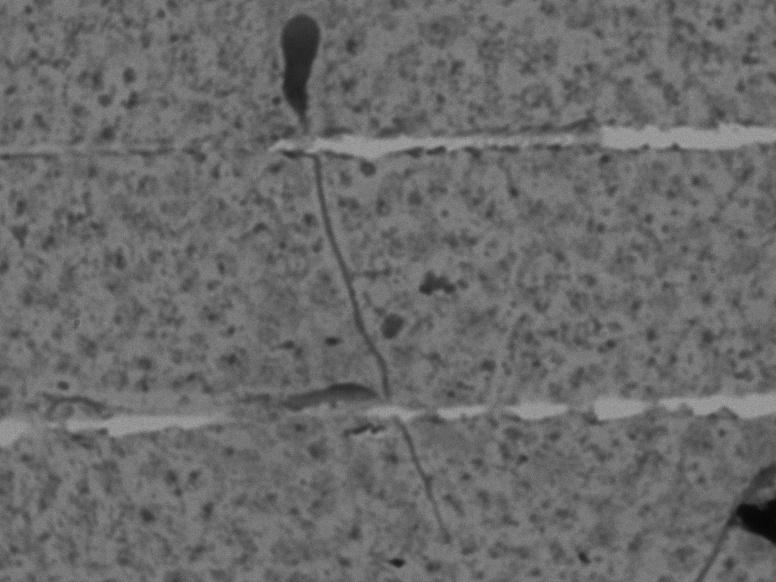Abnormal: (247, 12, 477, 553)
